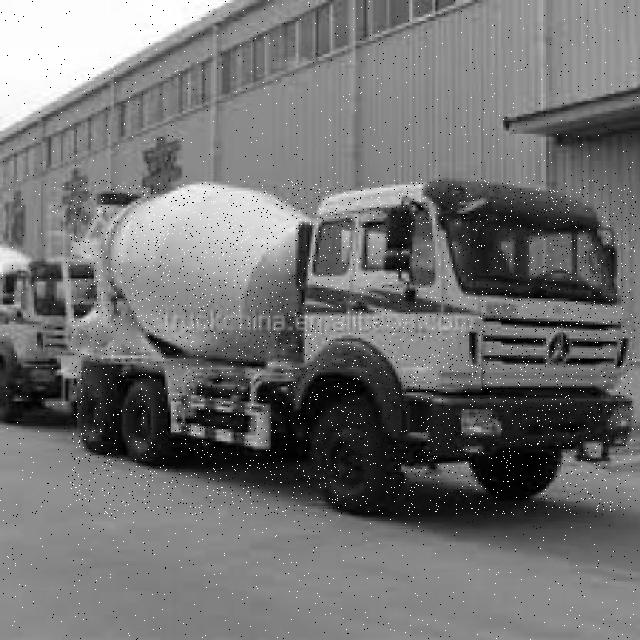Concrete Mixer: (70, 180, 636, 516)
